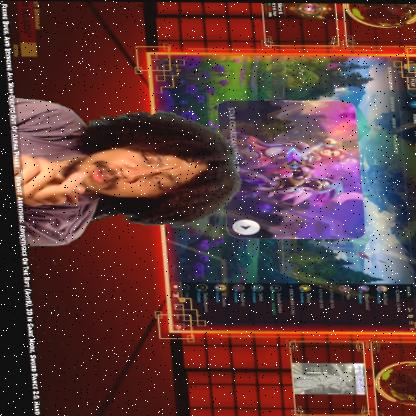streamer: (7, 94, 244, 246)
